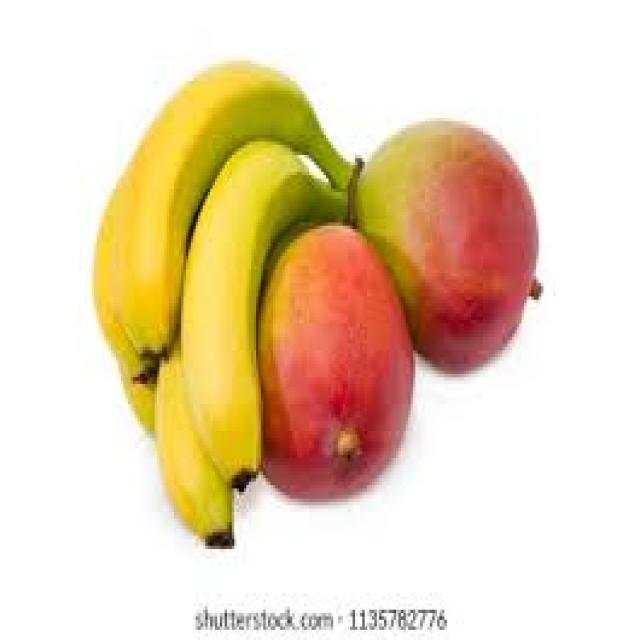Banana: (94, 60, 365, 553)
Mango: (355, 119, 538, 373), (256, 219, 415, 502)
